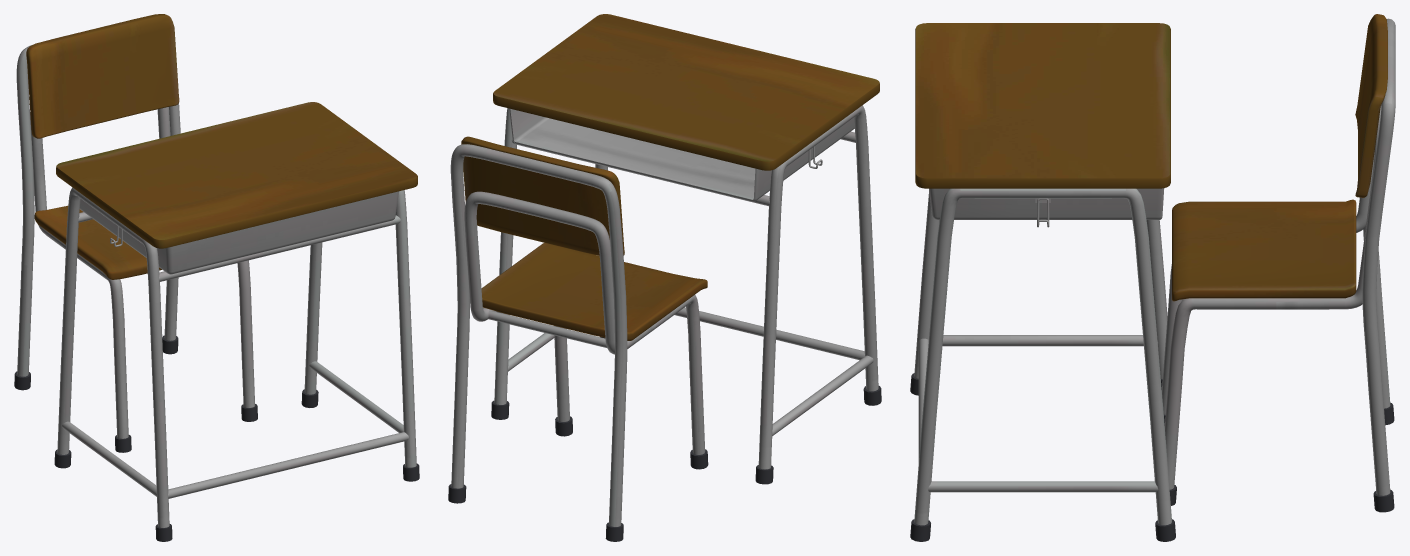
Rendered from school-desk.fbx.
3 renders of one model, left to right at view 1: azimuth 30°, elevation 25°; view 2: azimuth 150°, elevation 25°; view 3: azimuth 270°, elevation 25°, orthographic. The views are drawn at different scales.
Parts seen in each view (by area): view 1: desk.010, chair.010; view 2: desk.010, chair.010; view 3: desk.010, chair.010.
Boxes of the visible parts, left/top/right/bottom form: desk.010: left=54, top=102, right=419, bottom=541; chair.010: left=14, top=14, right=257, bottom=452; desk.010: left=491, top=14, right=881, bottom=484; chair.010: left=448, top=136, right=708, bottom=541; desk.010: left=910, top=23, right=1175, bottom=541; chair.010: left=1161, top=14, right=1395, bottom=512.
Size of the model in its own units: 65.2 by 80.41 by 85.83.
3 materials, 2 textured.
